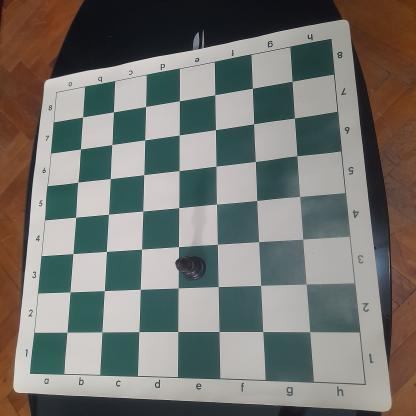black-bishop: (173, 255, 208, 281)
